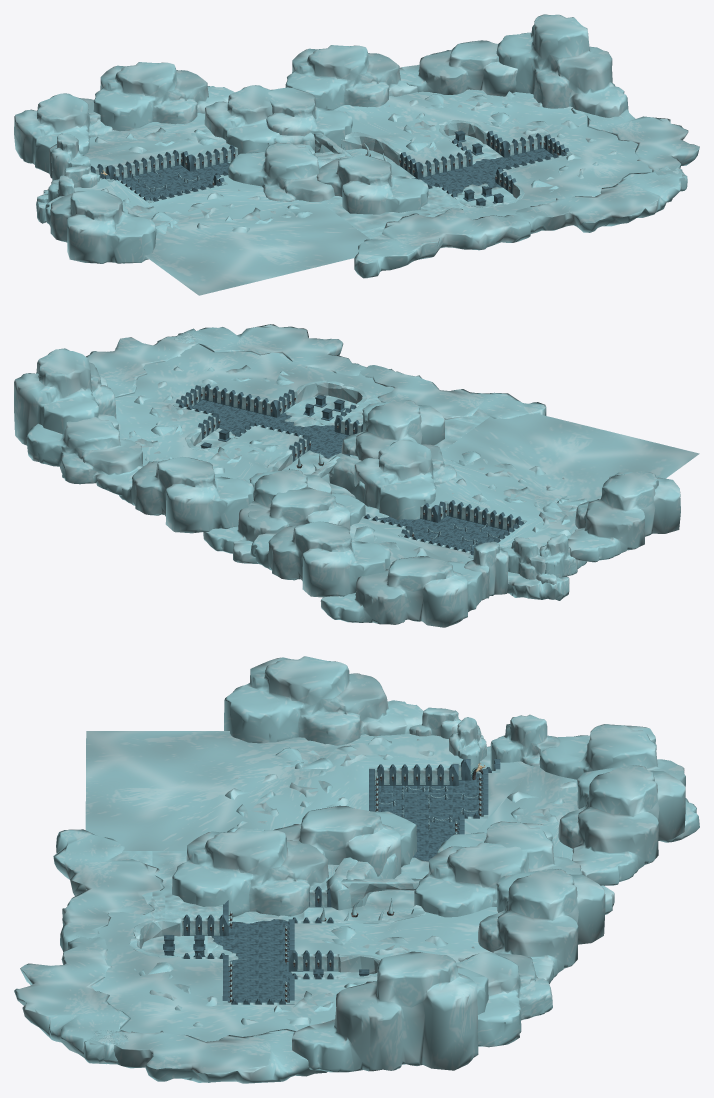
3 views of the same model, one above another, from view 1: azimuth 30°, elevation 25°; view 2: azimuth 150°, elevation 25°; view 3: azimuth 270°, elevation 25° (orthographic). The views are drawn at different scales.
Parts seen in each view (by area): view 1: polySurface94; view 2: polySurface94; view 3: polySurface94.
Boxes of the visible parts, left/top/right/bottom form: polySurface94: left=14, top=14, right=699, bottom=295; polySurface94: left=14, top=324, right=699, bottom=627; polySurface94: left=14, top=656, right=699, bottom=1083.
Size of the model in its own units: 1889 by 283 by 1442.
